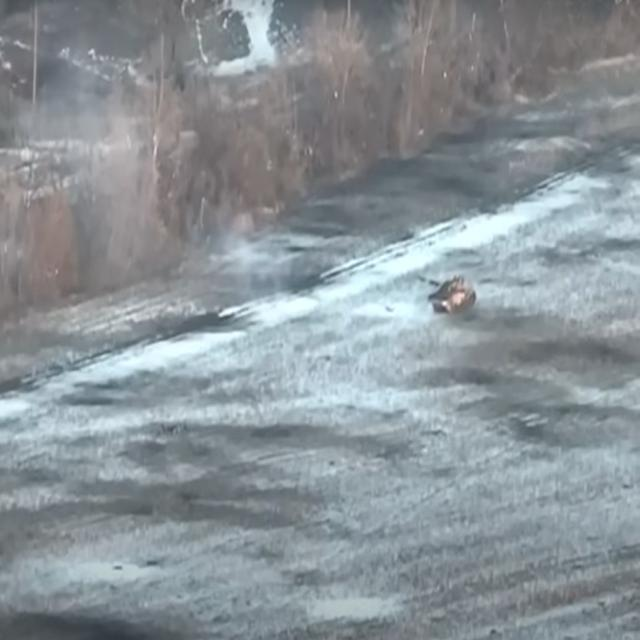MBT: (412, 272, 480, 317)
